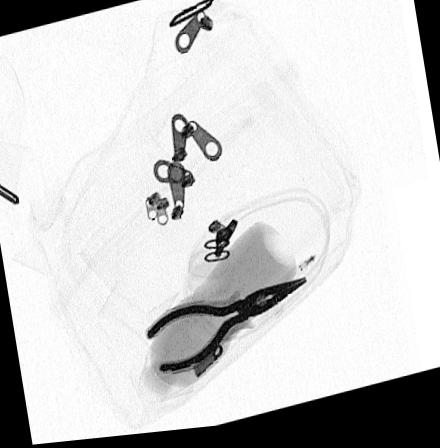Pliers: (144, 280, 310, 379)
